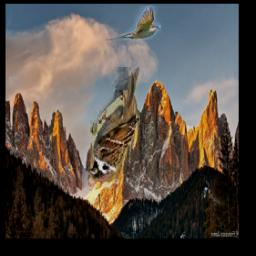Cuckoo: (107, 6, 161, 40)
Sparrow: (89, 68, 139, 183)
